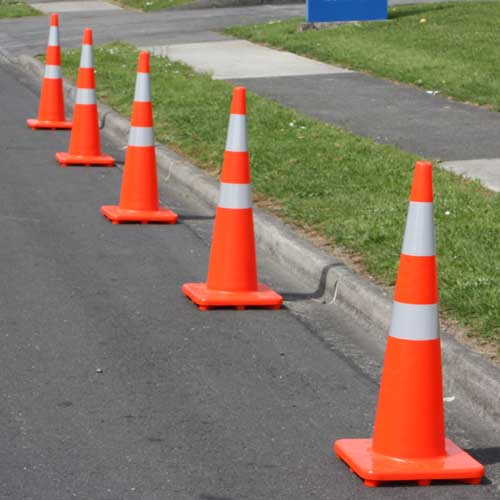cone: (334, 161, 491, 487), (182, 86, 285, 310), (99, 47, 182, 225), (54, 27, 118, 166), (26, 11, 79, 131)
